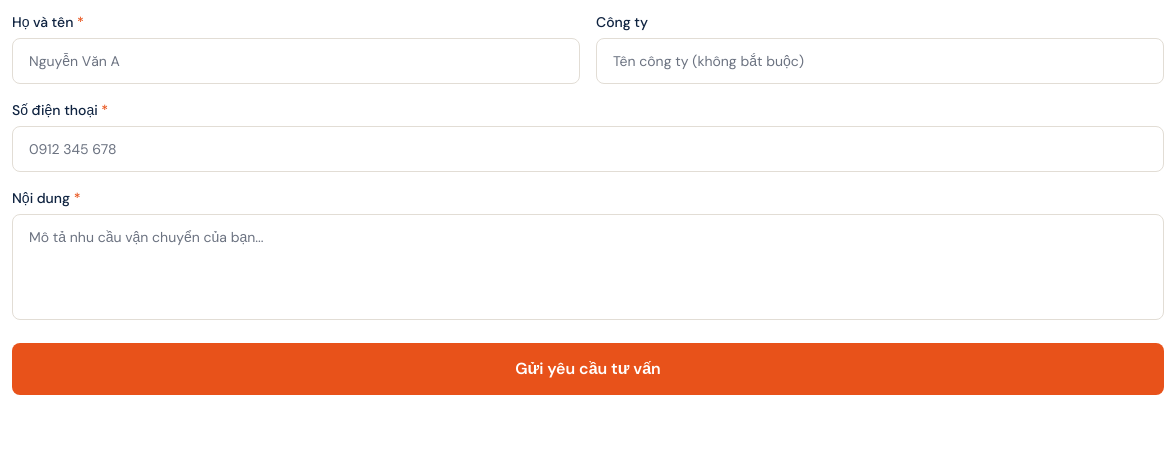
Test: ContactForm — validation › shows error for invalid phone
In the field labelled "Số điện thoại *": x=588, y=149 [12,126,1164,172], type "1234567890"
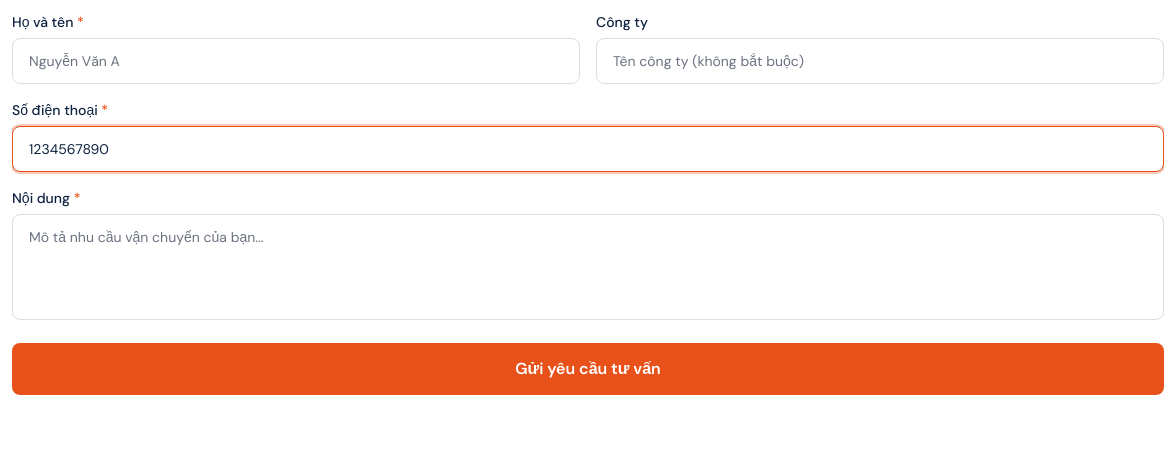
Click the button "Gửi yêu cầu tư vấn": x=588, y=369 [12,343,1164,395]
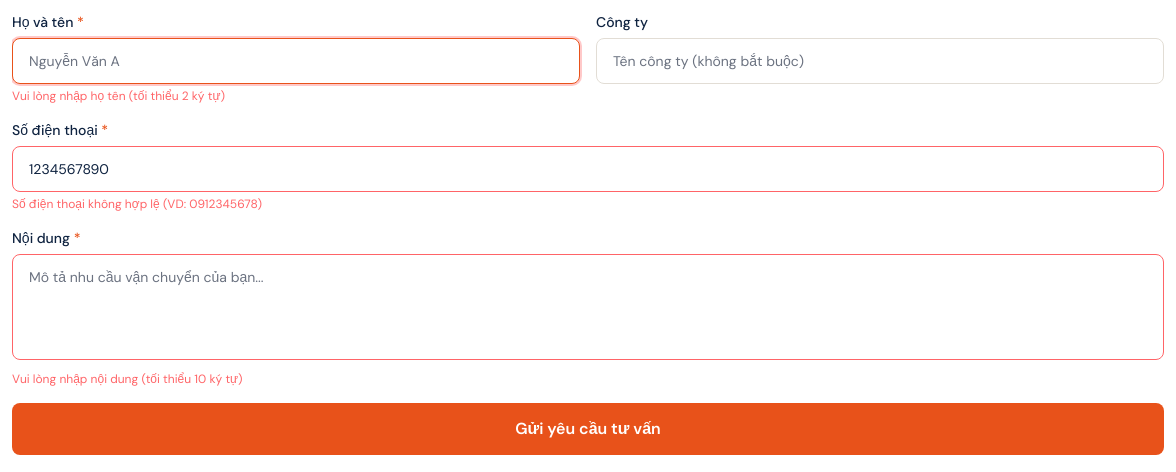
Now the text "Số điện thoại không hợp lệ (VD: 0912345678)" is shown, box [12,196,262,212]
